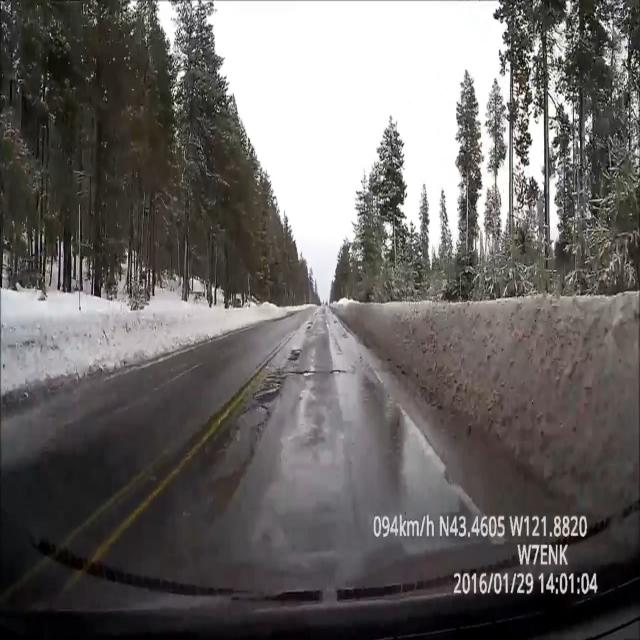Pothole: (200, 400, 274, 484), (260, 359, 358, 381), (250, 374, 283, 402)
